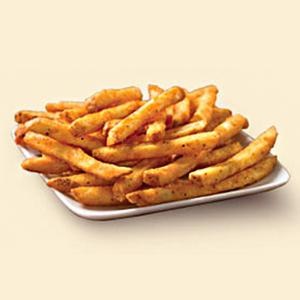fries: (13, 79, 285, 203)
